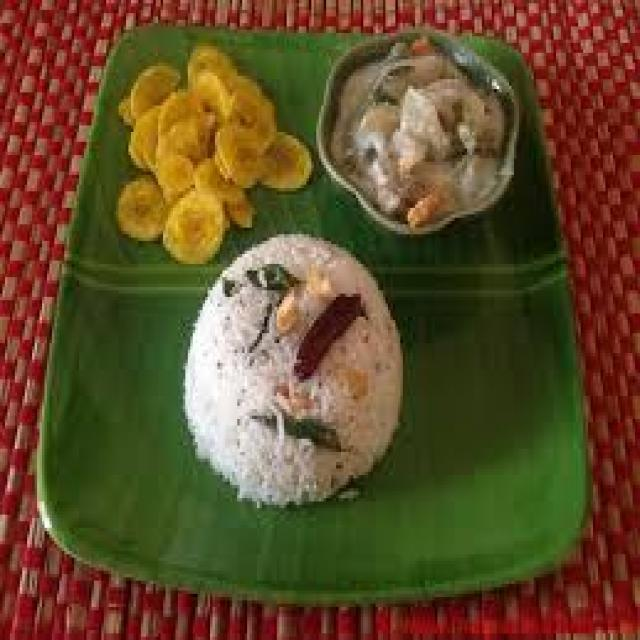BANANA CHIPS: (110, 46, 314, 263)
CURRY: (327, 37, 511, 227)
RICE: (176, 243, 408, 510)
